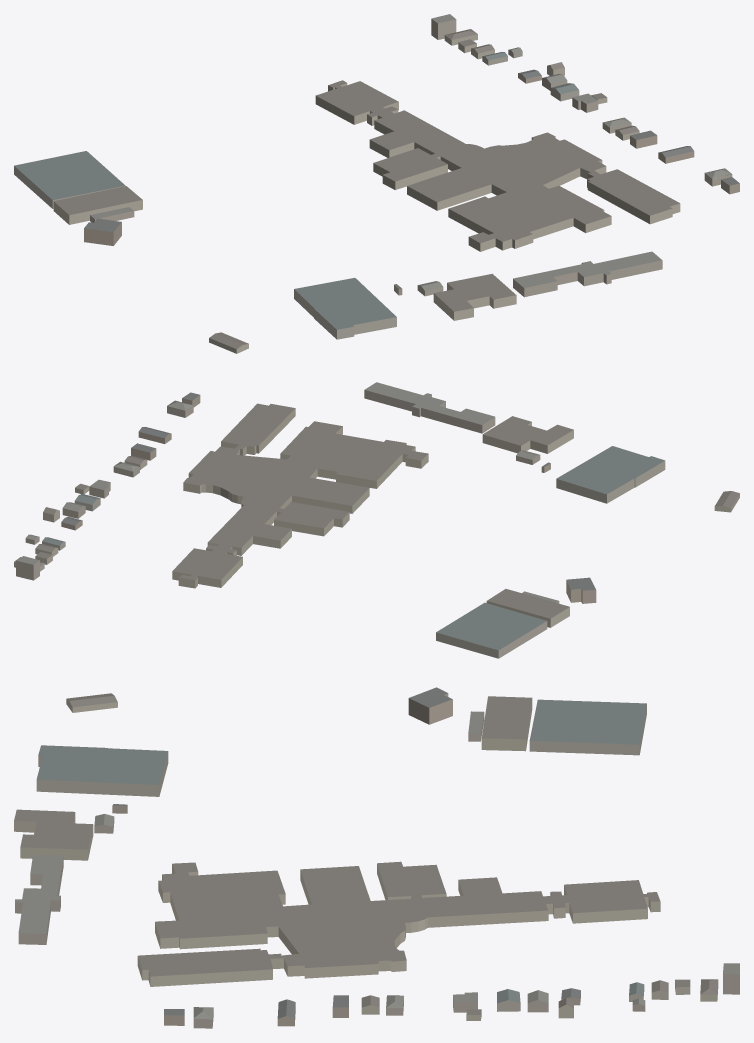
File: c0f558fa8aba-chunk-1199_11838.glb
3 views of the same model, one above another, from view 1: azimuth 30°, elevation 25°; view 2: azimuth 150°, elevation 25°; view 3: azimuth 270°, elevation 25° (orthographic). The views are drawn at different scales.
Visible parts, largest first — view 1: building_122250, building_77775, building_104268, building_154328, building_140966, building_102351, building_163441; view 2: building_122250, building_104268, building_77775, building_154328, building_140966, building_102351, building_163441, building_82718; view 3: building_122250, building_77775, building_104268, building_140966, building_154328, building_102351, building_163441, building_135175.
Part boxes in pixels (box(x1,y1,x2,y2)): building_122250: box(315, 80, 680, 251); building_77775: box(294, 278, 396, 339); building_104268: box(14, 151, 125, 208); building_154328: box(513, 251, 662, 297); building_140966: box(433, 273, 516, 320); building_102351: box(53, 186, 142, 224); building_163441: box(84, 218, 121, 245); building_122250: box(172, 403, 428, 588); building_104268: box(436, 602, 547, 658); building_77775: box(556, 446, 665, 503); building_154328: box(364, 382, 495, 433); building_140966: box(482, 416, 573, 453); building_102351: box(486, 589, 569, 627); building_163441: box(566, 577, 596, 603); building_82718: box(16, 556, 39, 580); building_122250: box(137, 861, 660, 986); building_77775: box(36, 745, 168, 796); building_104268: box(529, 699, 646, 755); building_140966: box(14, 809, 93, 860); building_154328: box(15, 855, 63, 944); building_102351: box(481, 696, 532, 751); building_163441: box(408, 687, 452, 724); building_135175: box(66, 693, 117, 712).
Size of the model in its own units: 389 by 11.11 by 362.
